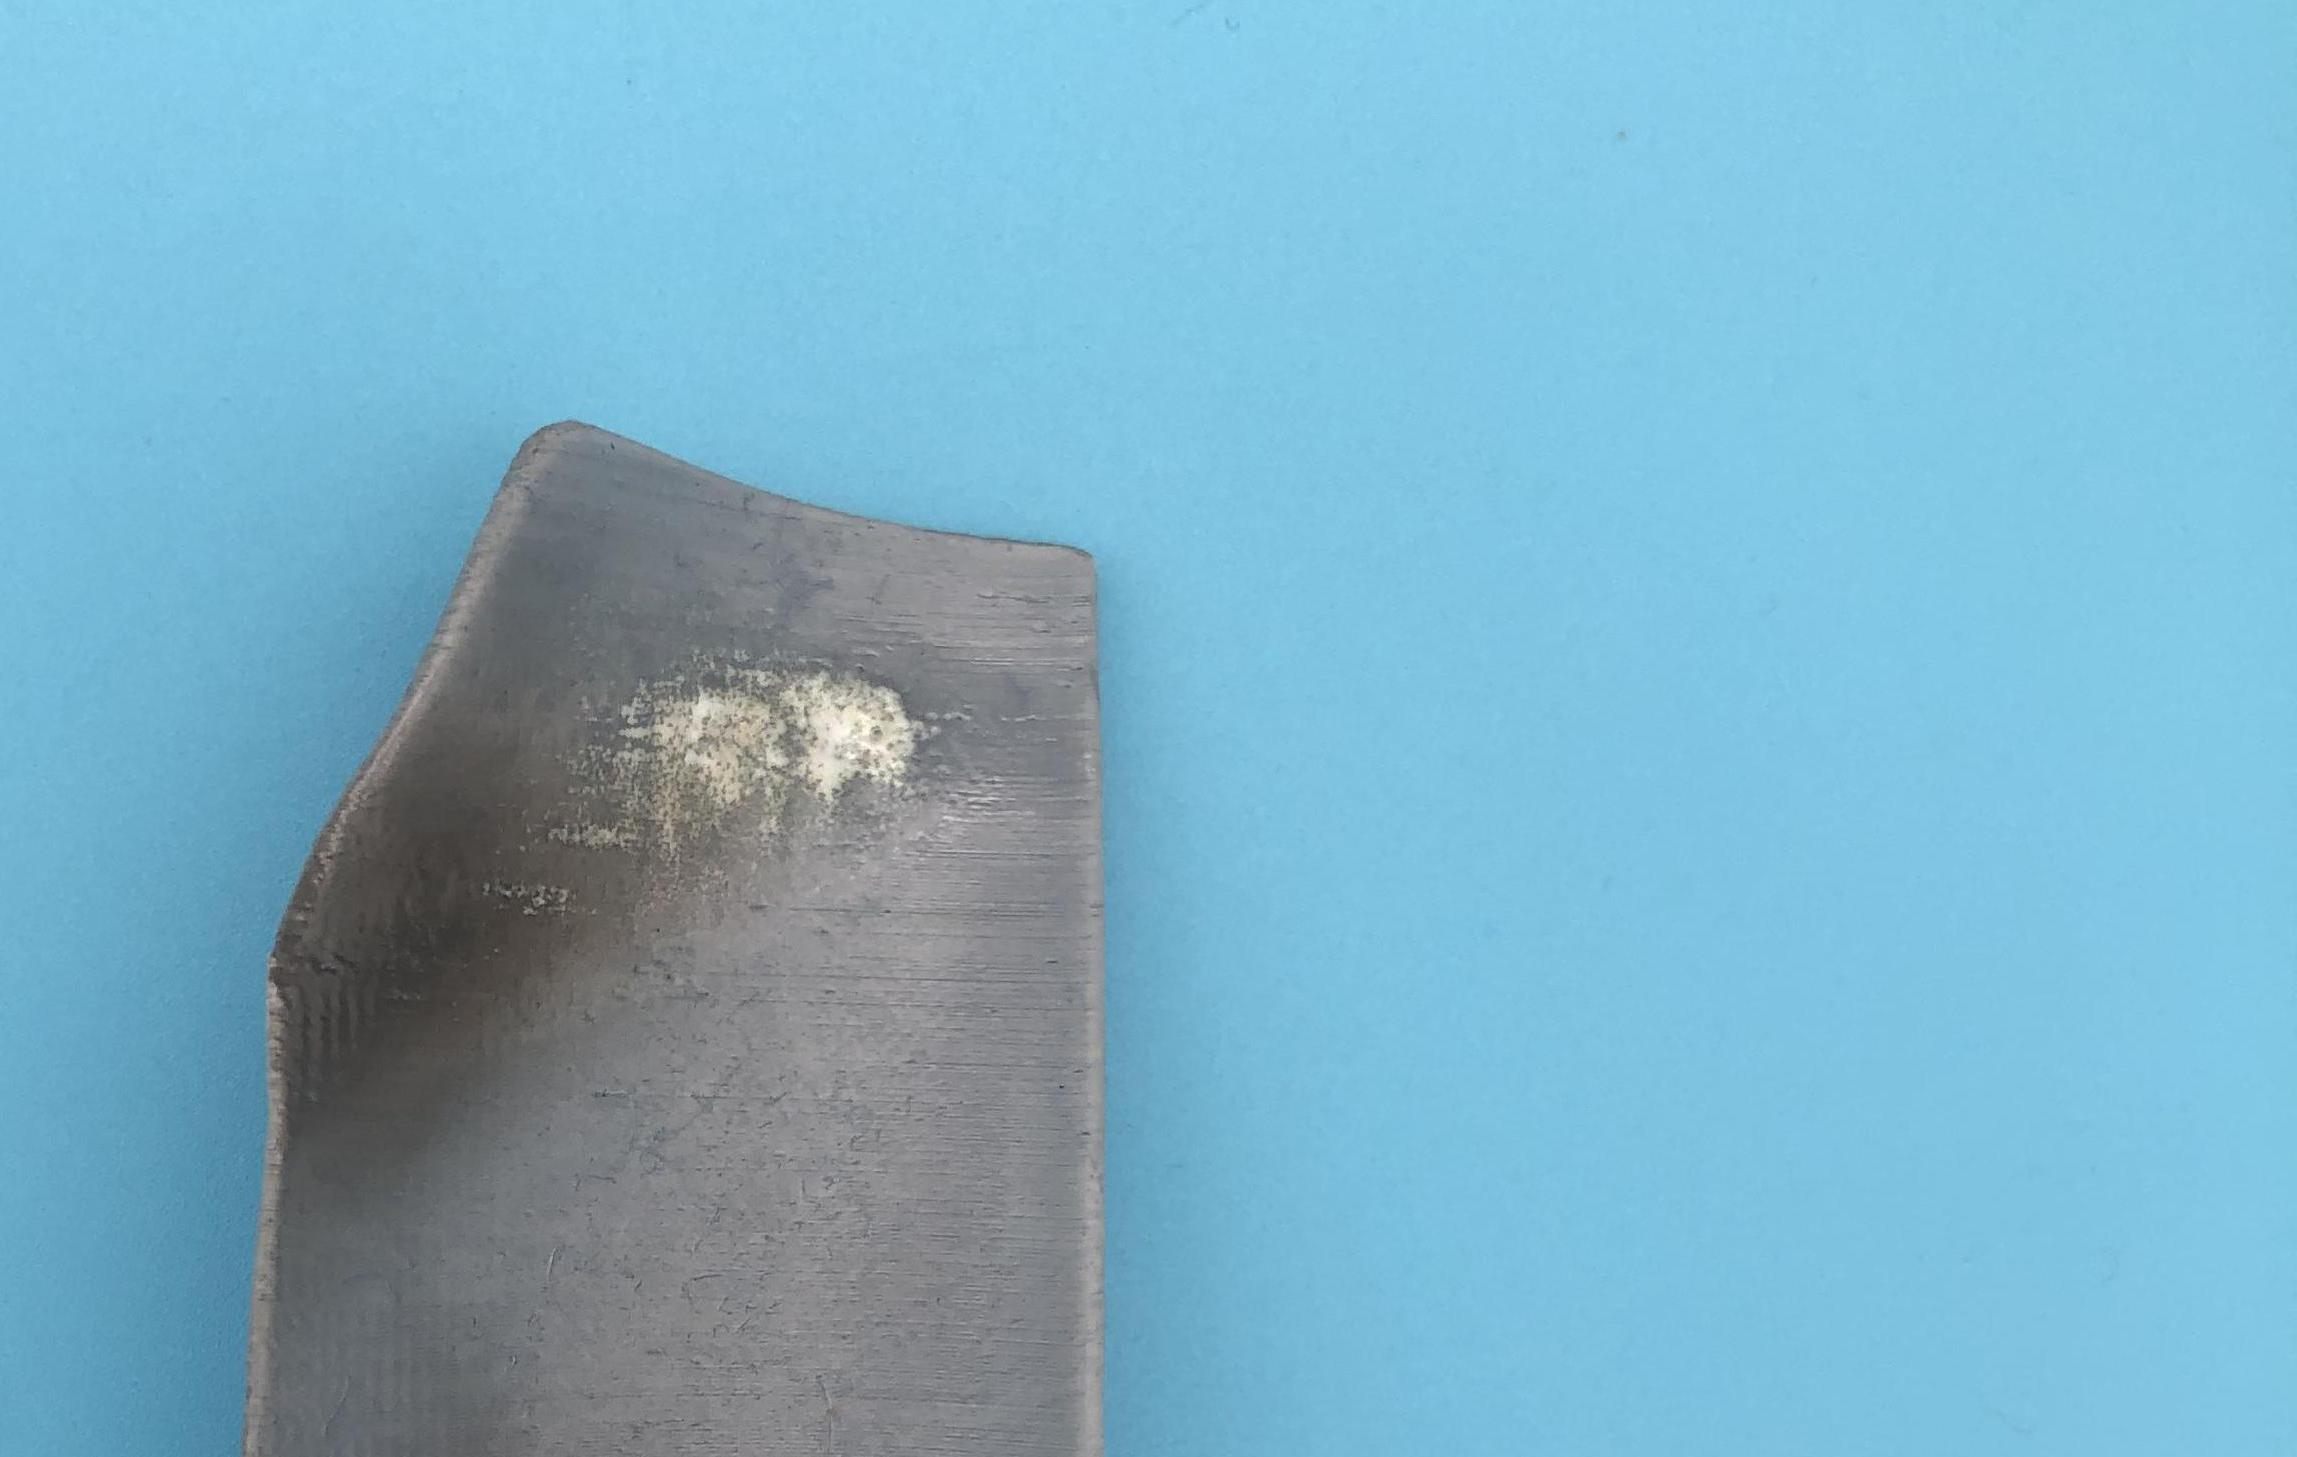ablation: (285, 705, 907, 1085)
